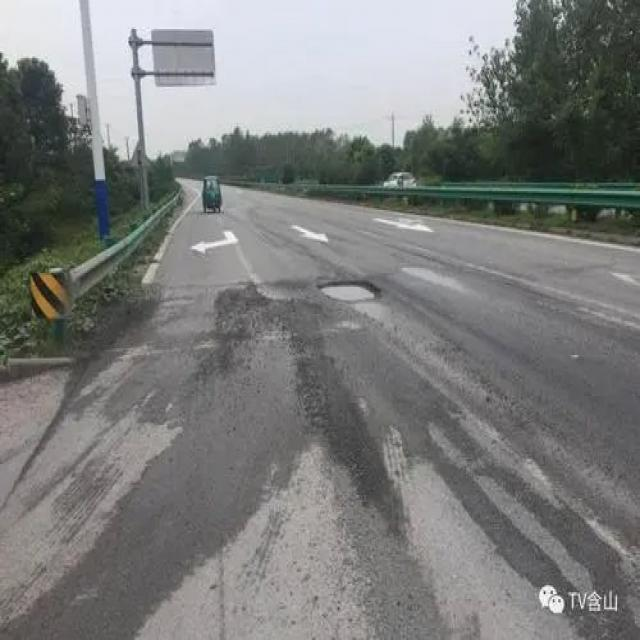Pothole: (318, 278, 382, 302)
